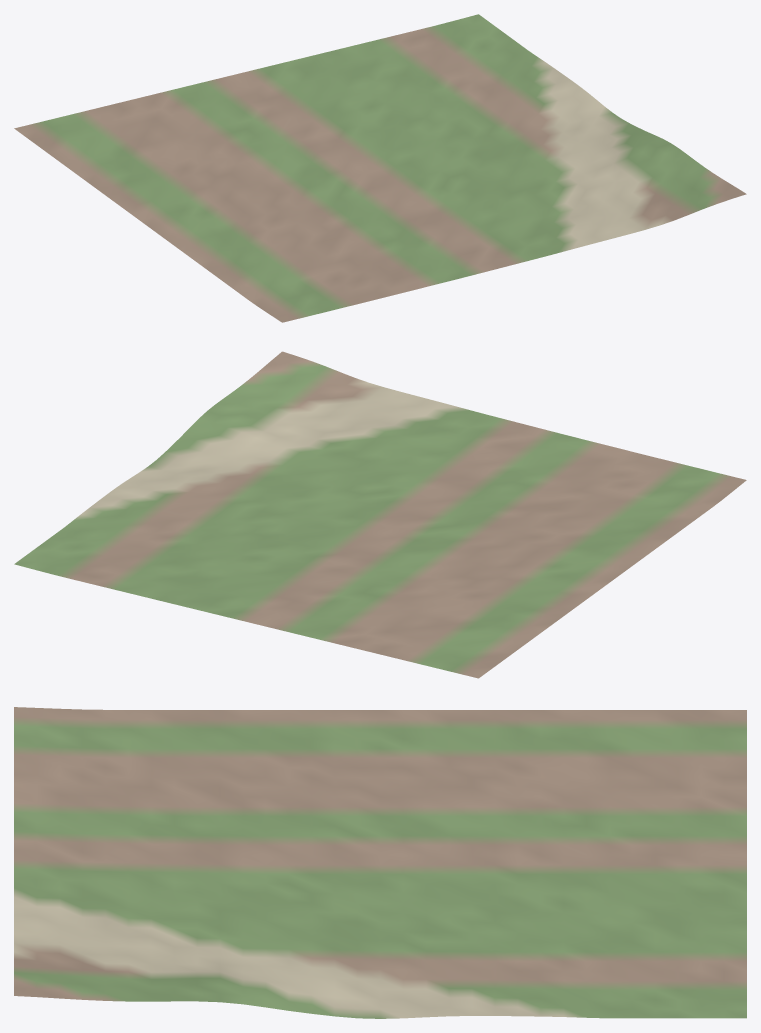
3 views of the same model, one above another, from view 1: azimuth 30°, elevation 25°; view 2: azimuth 150°, elevation 25°; view 3: azimuth 270°, elevation 25° (orthographic). The views are drawn at different scales.
Parts seen in each view (by area): view 1: Terrain-col; view 2: Terrain-col; view 3: Terrain-col.
Boxes of the visible parts, x1=… form: Terrain-col: x1=14, y1=14, x2=746, y2=322; Terrain-col: x1=14, y1=351, x2=746, y2=678; Terrain-col: x1=14, y1=707, x2=746, y2=1018.
Bounding box in the file's own units: 256 × 9.12 × 256.
